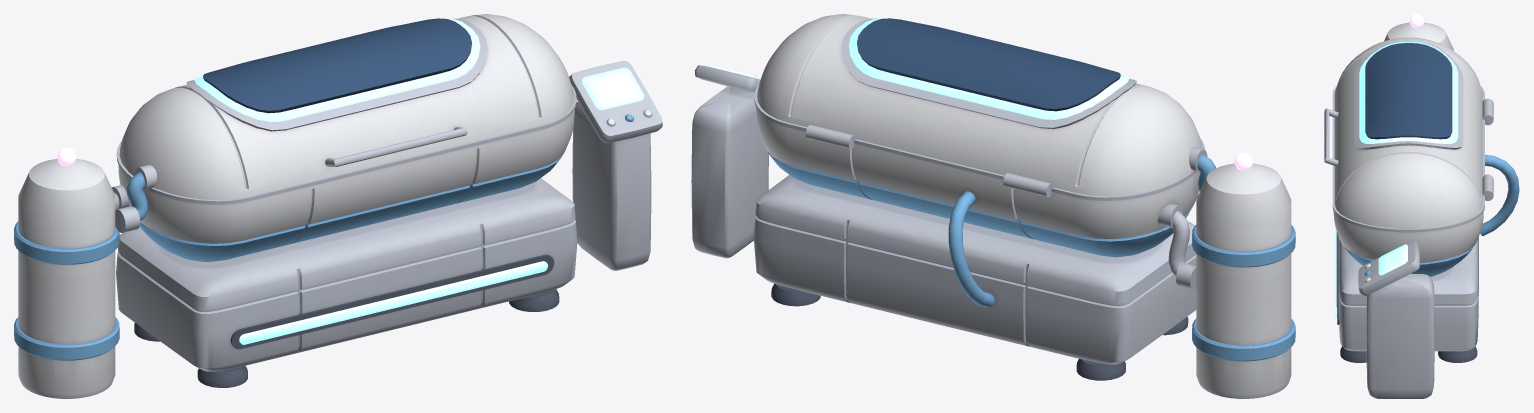
Rendered from criocapsula.glb.
3 views of the same model, side by side, from view 1: azimuth 30°, elevation 25°; view 2: azimuth 150°, elevation 25°; view 3: azimuth 270°, elevation 25° (orthographic). The views are drawn at different scales.
Parts seen in each view (by area): view 1: cryo-pod_body; view 2: cryo-pod_body; view 3: cryo-pod_body.
Part boxes in pixels (x1,y1,x2,y2): cryo-pod_body: (14,14,662,398); cryo-pod_body: (691,14,1295,398); cryo-pod_body: (1324,14,1519,398).
Size of the model in its own units: 3.32 by 1.4 by 1.2.
Materials: 5 (2 with a texture image).
